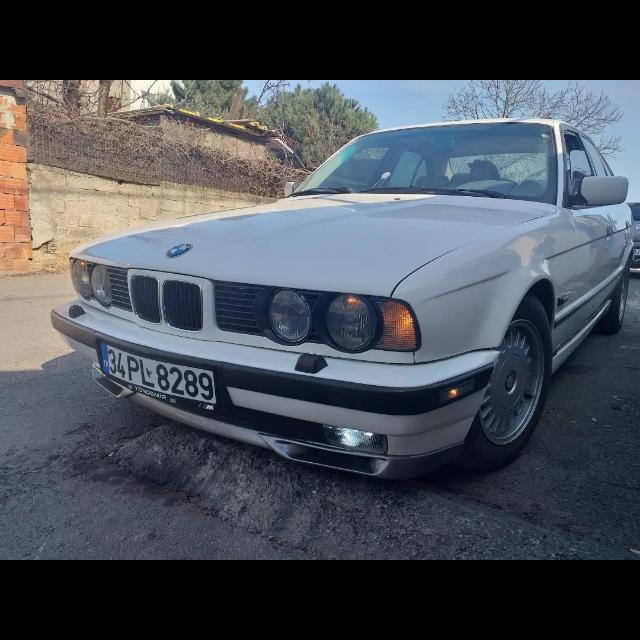Plaka: (100, 341, 214, 403)
